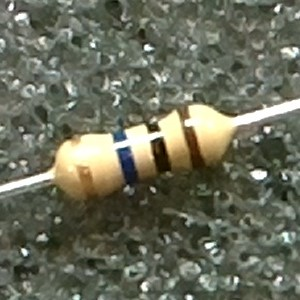black_band: (142, 118, 175, 175)
blue_band: (110, 127, 143, 187)
brown_band: (175, 103, 213, 172)
gold_band: (68, 134, 101, 202)
